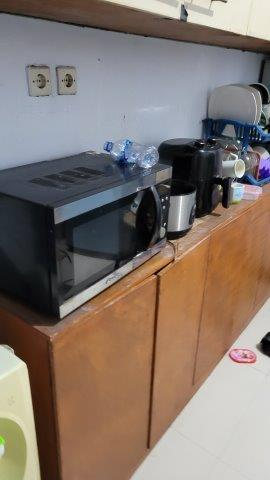botolplastik: (100, 139, 159, 168)
